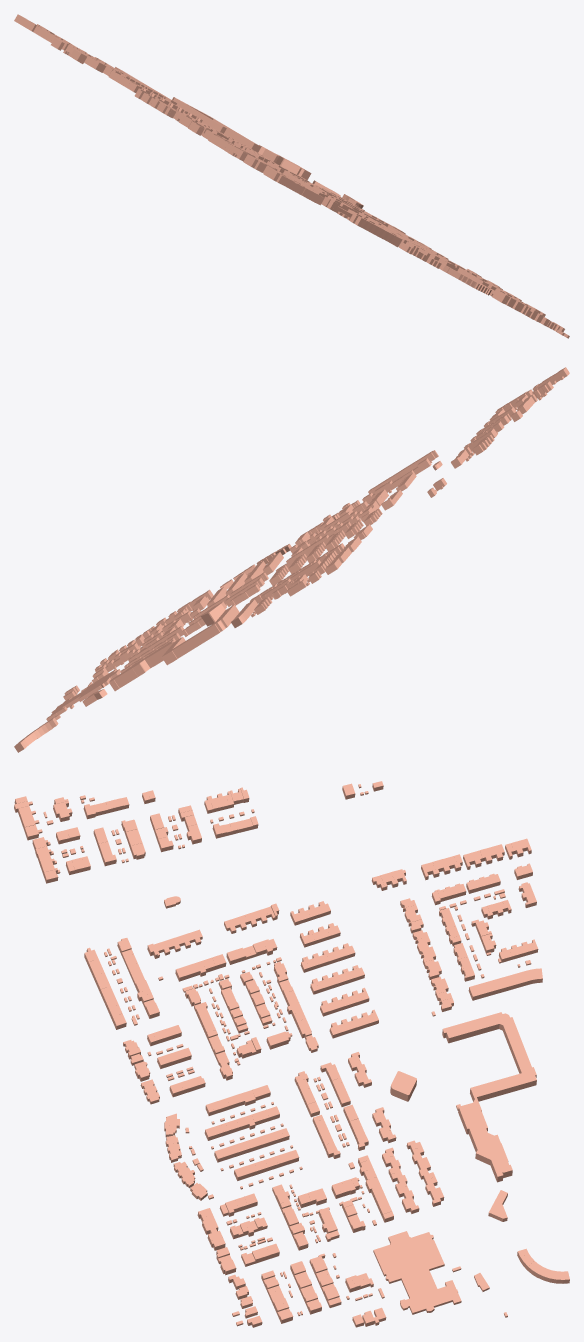
3 views of the same model, one above another, from view 1: azimuth 30°, elevation 25°; view 2: azimuth 150°, elevation 25°; view 3: azimuth 270°, elevation 25° (orthographic). The views are drawn at different scales.
Bounding box in the file's own units: 491 × 374 × 550.
